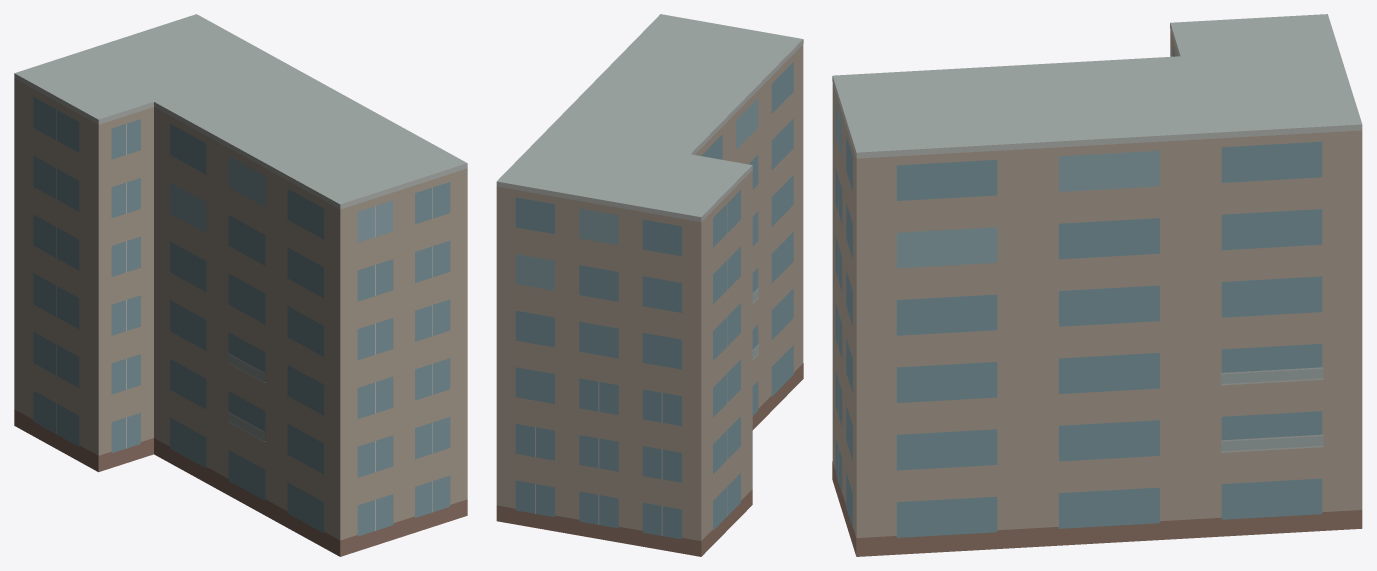
The model's file is survey-upis-32716987.glb.
3 views of the same model, side by side, from view 1: azimuth 30°, elevation 25°; view 2: azimuth 150°, elevation 25°; view 3: azimuth 270°, elevation 25° (orthographic). The views are drawn at different scales.
Visible parts, largest first — view 1: survey-upis-32716987.tmp; view 2: survey-upis-32716987.tmp; view 3: survey-upis-32716987.tmp.
Boxes of the visible parts, x1=… form: survey-upis-32716987.tmp: x1=14, y1=14, x2=467, y2=556; survey-upis-32716987.tmp: x1=496, y1=14, x2=803, y2=556; survey-upis-32716987.tmp: x1=832, y1=14, x2=1362, y2=556.
Bounding box in the file's own units: 12.3 × 16.7 × 19.85.
